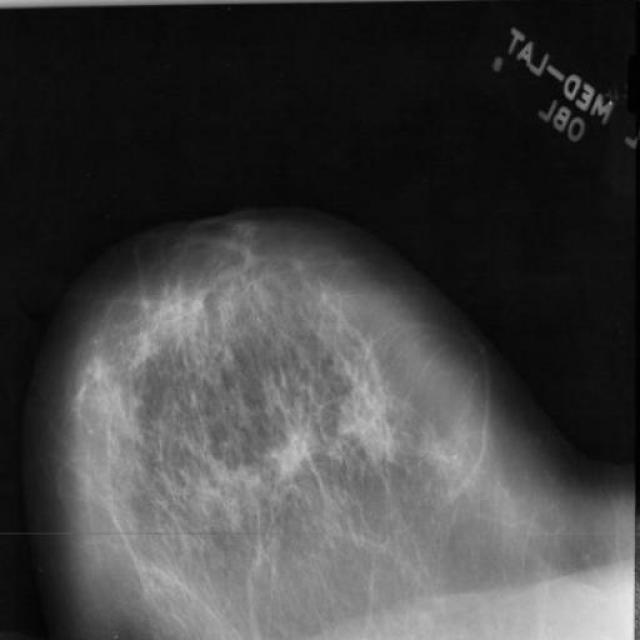cancer: (270, 424, 325, 484)
